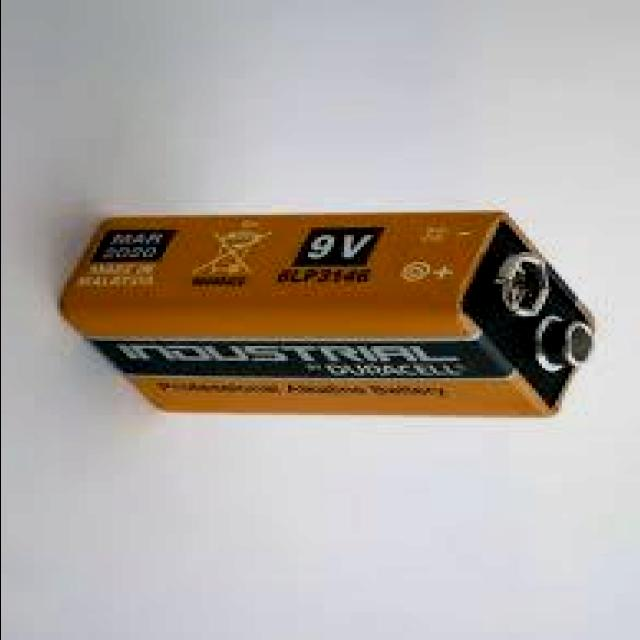9V: (59, 208, 600, 418)
